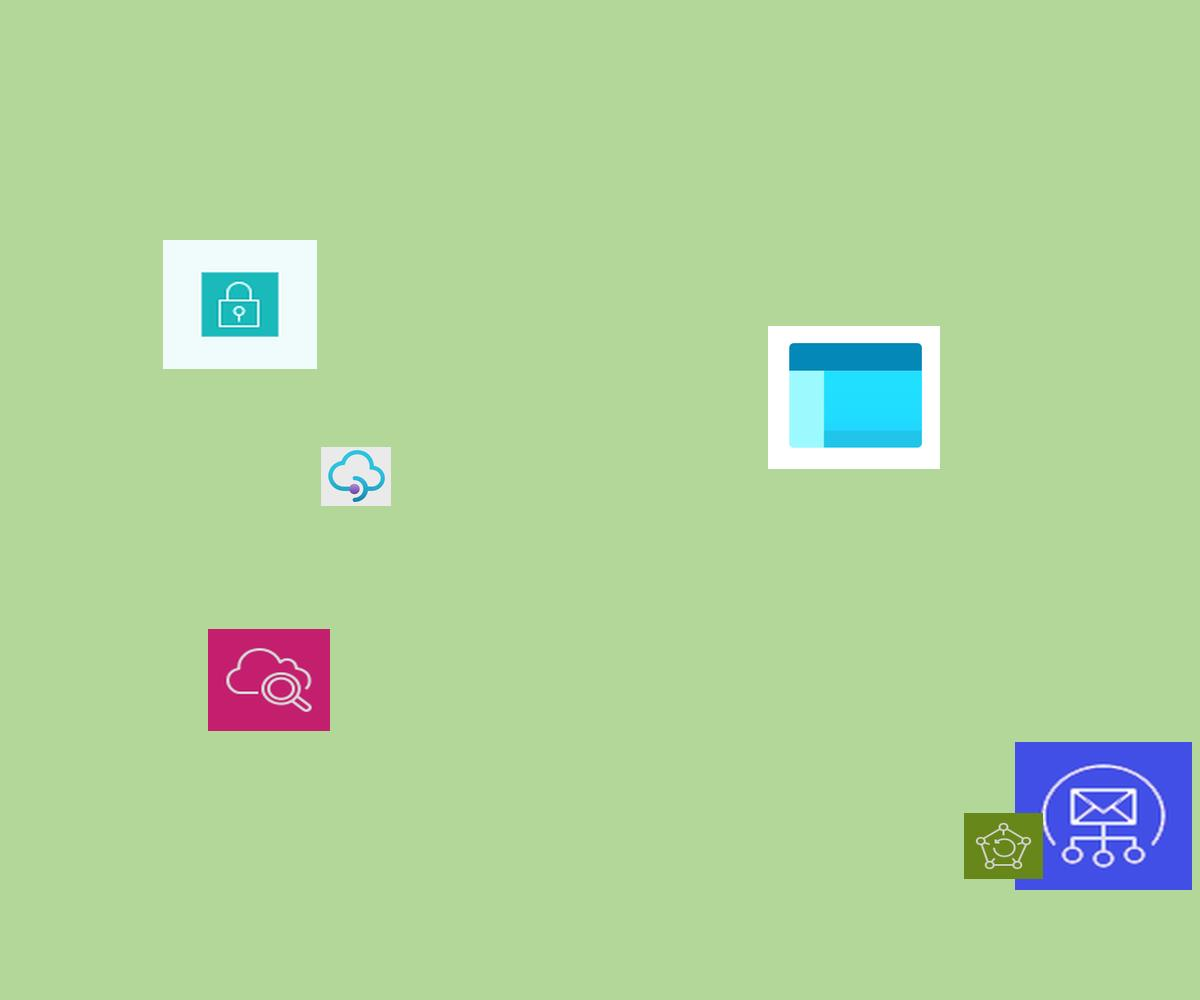AWS-Backup: (964, 813, 1043, 879)
AWS-CloudWatch: (208, 629, 330, 731)
AWS-Private-subnet: (163, 240, 317, 369)
AWS-Simple-Email-Service: (1015, 742, 1192, 890)
Azure_api_gateway: (321, 447, 391, 506)
Azure_management-portal: (768, 326, 940, 469)
